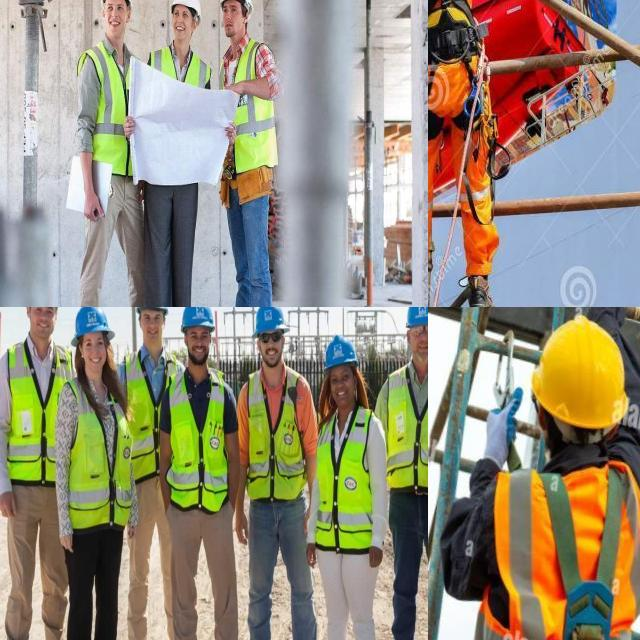Harness: (541, 469, 629, 640), (428, 0, 478, 62)
No_Ear-Protection: (243, 8, 251, 27), (190, 17, 198, 33), (100, 6, 108, 21), (125, 8, 132, 25)
No_Glasses: (105, 0, 126, 16), (221, 4, 241, 16), (173, 9, 190, 21)
face_nomask: (82, 332, 110, 372), (329, 371, 356, 410), (258, 333, 288, 368), (222, 0, 245, 44), (187, 329, 211, 368), (32, 307, 58, 341), (410, 325, 428, 371), (142, 311, 164, 345), (172, 6, 192, 42), (105, 0, 126, 31)
hand_noglove: (76, 194, 107, 225), (235, 509, 252, 546), (0, 490, 19, 522), (120, 115, 138, 141), (305, 543, 321, 571), (369, 544, 384, 570)
head_helmet: (73, 307, 114, 337), (323, 335, 357, 369), (253, 307, 288, 337), (182, 307, 217, 328), (406, 307, 428, 327), (133, 307, 168, 314), (171, 0, 204, 7)
person: (238, 307, 311, 640), (4, 307, 71, 640), (167, 307, 234, 640), (65, 307, 128, 640), (314, 334, 379, 640), (219, 0, 275, 307), (93, 0, 147, 307), (129, 307, 176, 640), (150, 0, 197, 307), (385, 307, 428, 640)
vest: (68, 376, 132, 526), (8, 341, 68, 482), (169, 368, 229, 509), (317, 403, 372, 549), (246, 368, 302, 497), (129, 349, 174, 479), (387, 362, 428, 490), (226, 58, 275, 164), (89, 43, 126, 164), (153, 48, 212, 85)
